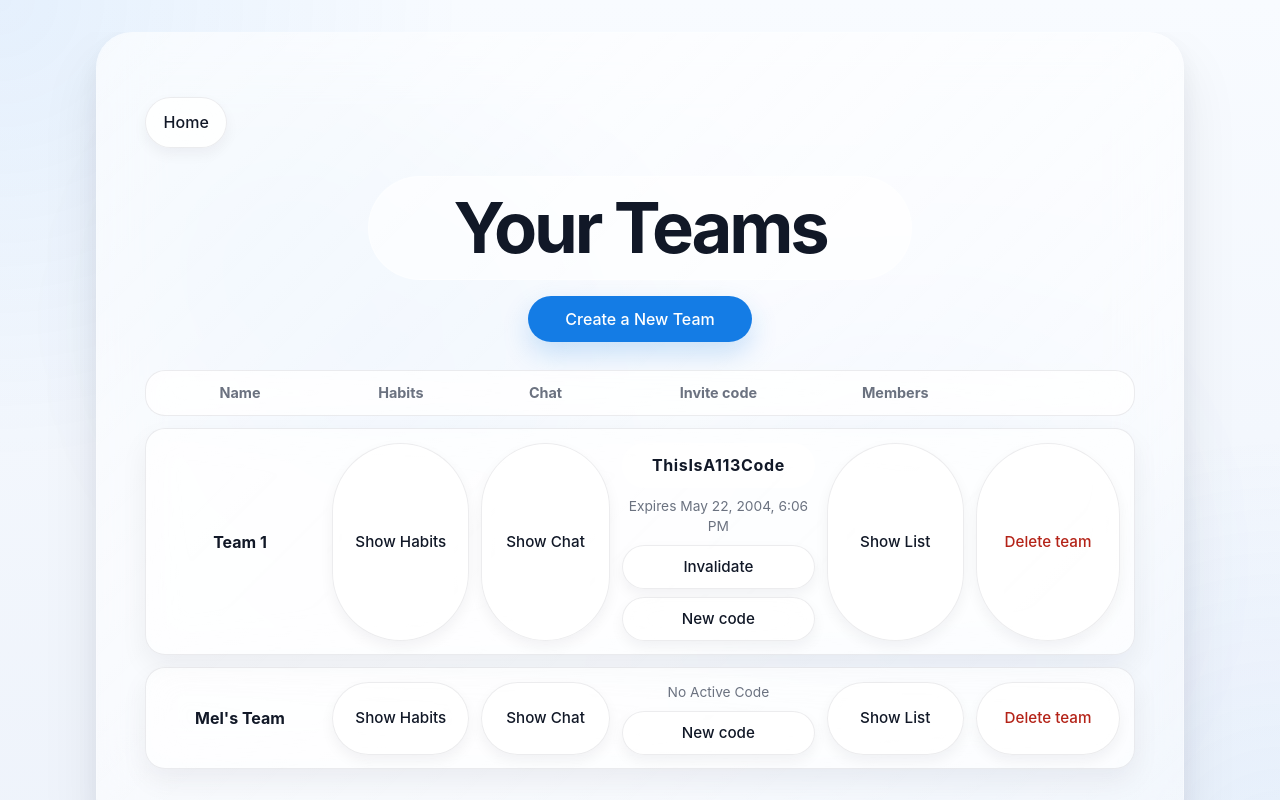
Test case: on delete with confirmation removes team from list
Step 1. Click the button "Delete team" in the row of "No Active Code" → click(1048, 718), box [976,682,1120,755]
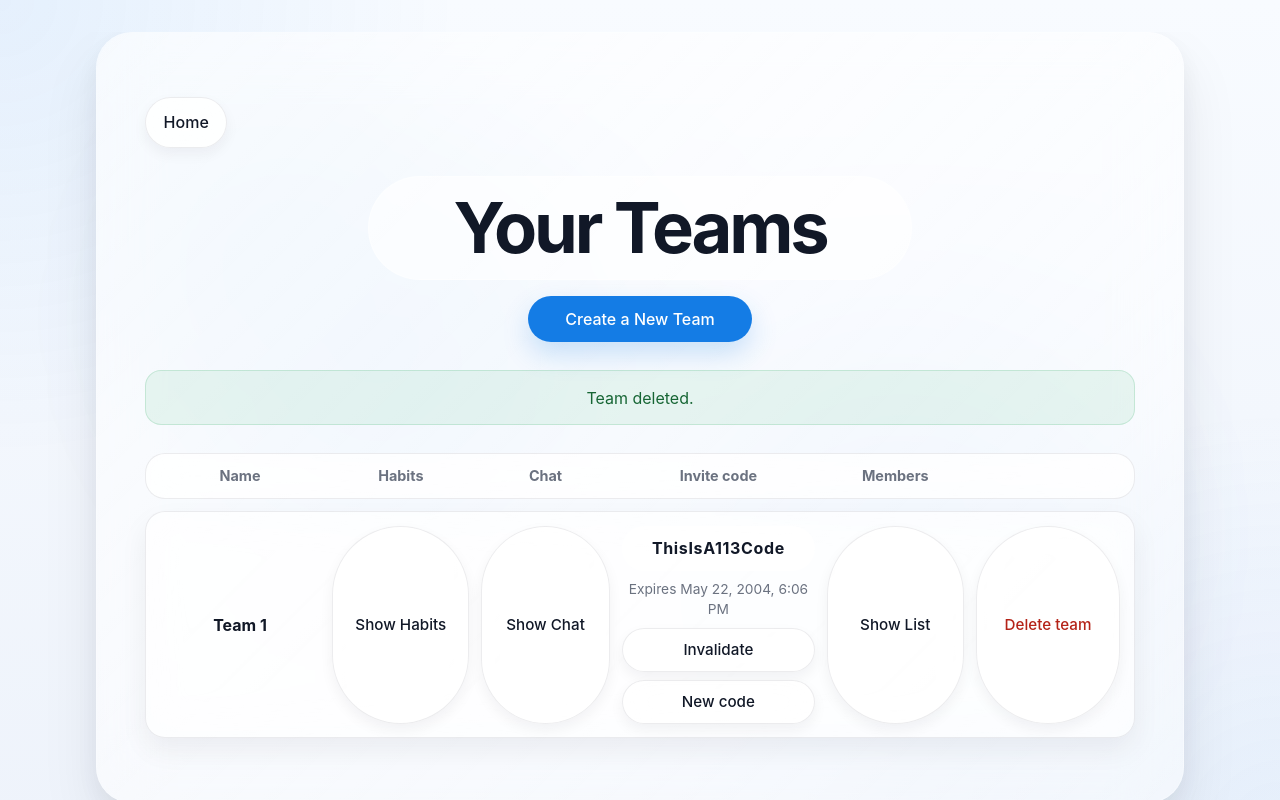
Expected: the text "Team 1" is shown, [213,614,267,634]
Expected: the text "Mel's Team" is gone
